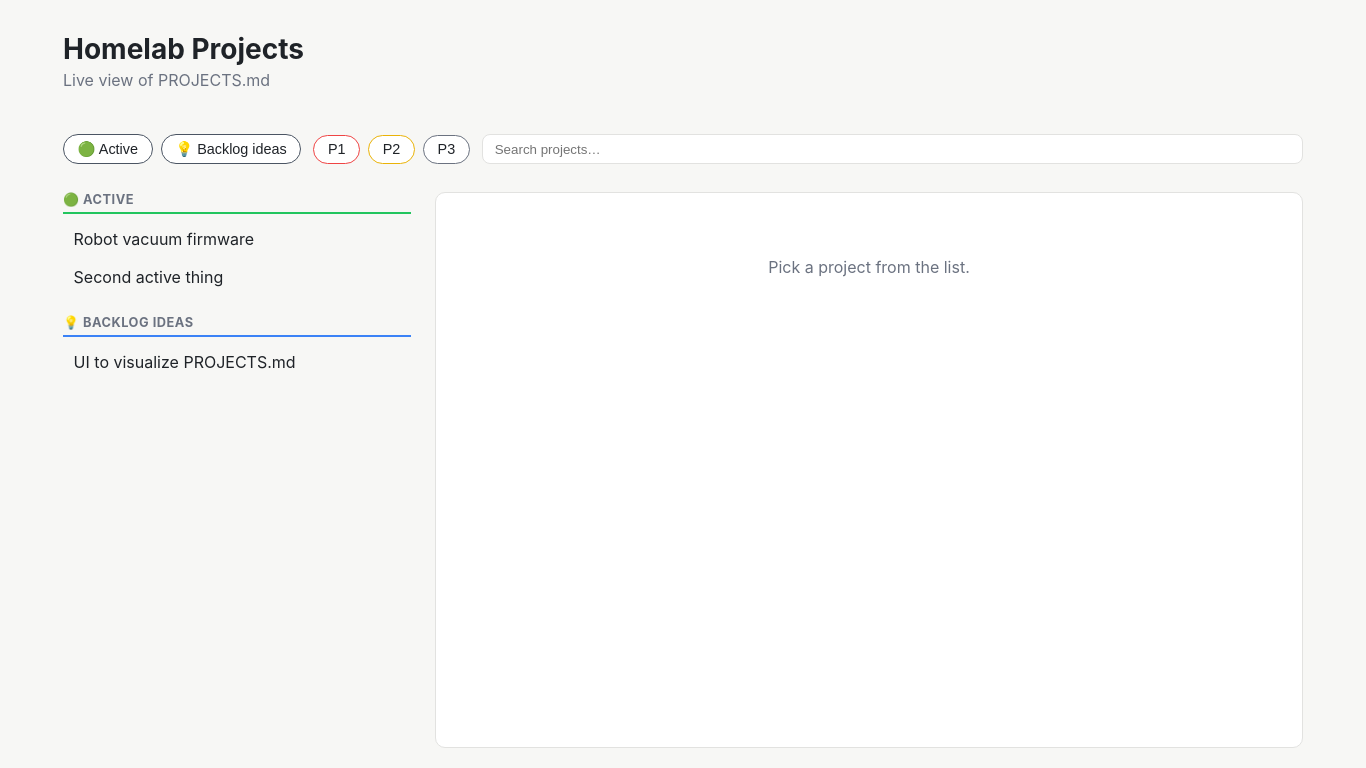
Test: App › replaces the detail rather than stacking a second project under it
Check: the text "Robot vacuum firmware" is shown, box x1=74 y1=229 x2=254 y2=249
Step 1. Click the button "Robot vacuum firmware" → (237, 239), box x1=63 y1=220 x2=411 y2=257
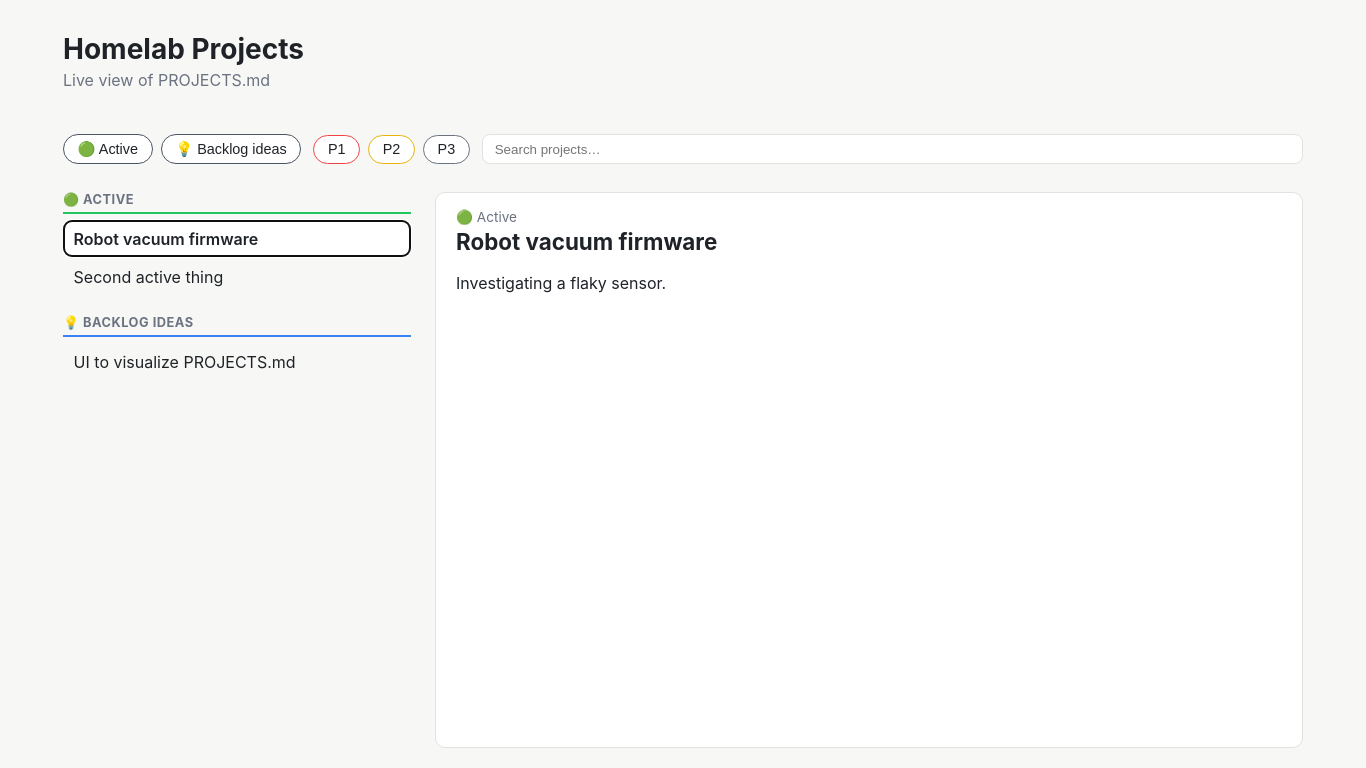
Step 2. Click the button "UI to visualize PROJECTS.md" → (237, 362), box x1=63 y1=343 x2=411 y2=380
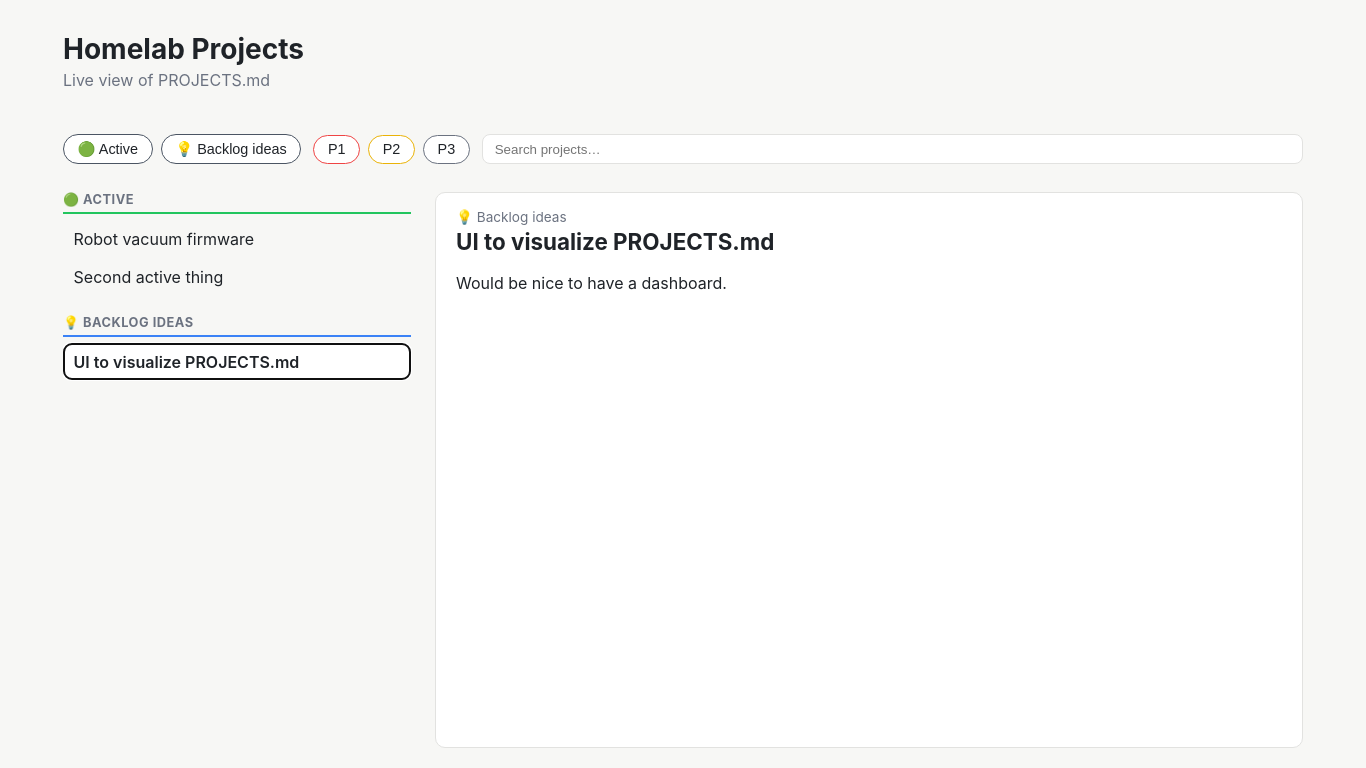
Check: the text "Would be nice to have a dashboard." is shown, box x1=456 y1=273 x2=727 y2=293
Check: the text "flaky sensor" is gone
